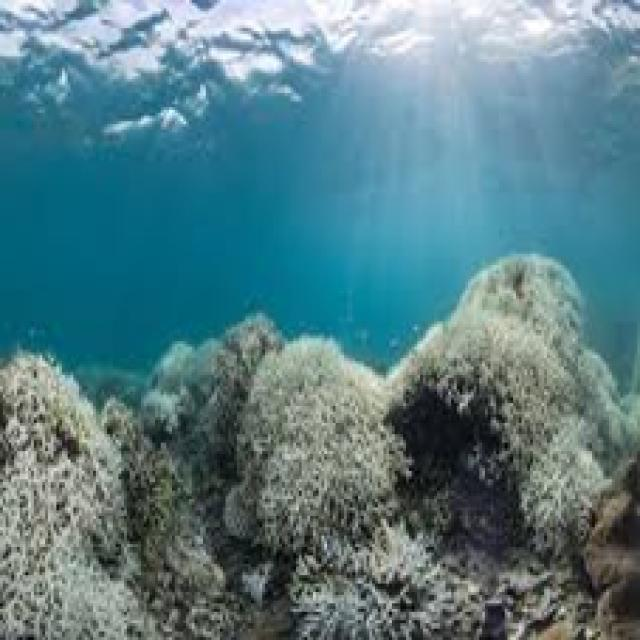Bleached: (234, 342, 391, 547), (1, 452, 122, 638), (393, 314, 586, 420), (1, 354, 121, 468), (456, 252, 589, 340), (524, 425, 614, 530), (304, 525, 434, 591), (290, 585, 407, 639), (581, 352, 621, 453)
